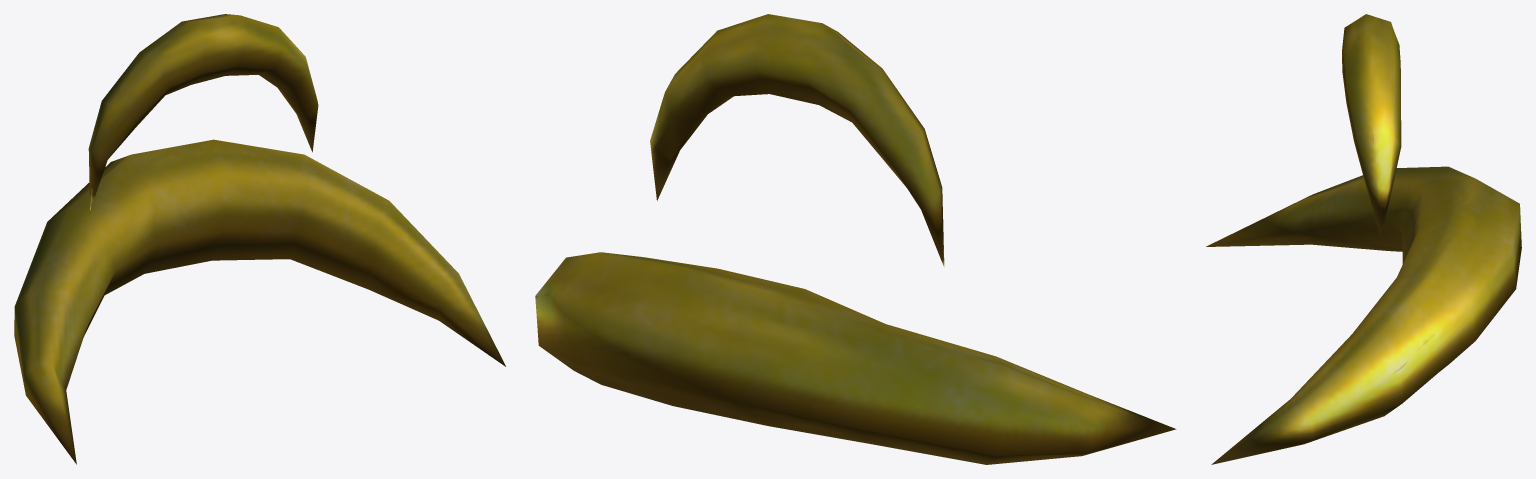
File: sm_dwarf_accessories_10.gltf
3 renders of one model, left to right at view 1: azimuth 30°, elevation 25°; view 2: azimuth 150°, elevation 25°; view 3: azimuth 270°, elevation 25°, orthographic. The views are drawn at different scales.
Parts seen in each view (by area): view 1: sm_dwarf_accessories_10; view 2: sm_dwarf_accessories_10; view 3: sm_dwarf_accessories_10.
Part boxes in pixels (bbox=[...]): sm_dwarf_accessories_10: bbox=[14, 14, 505, 464]; sm_dwarf_accessories_10: bbox=[535, 14, 1176, 464]; sm_dwarf_accessories_10: bbox=[1206, 14, 1521, 464].
Size of the model in its own units: 5.8 by 4.36 by 3.69.
Materials: 1 (1 with a texture image).
